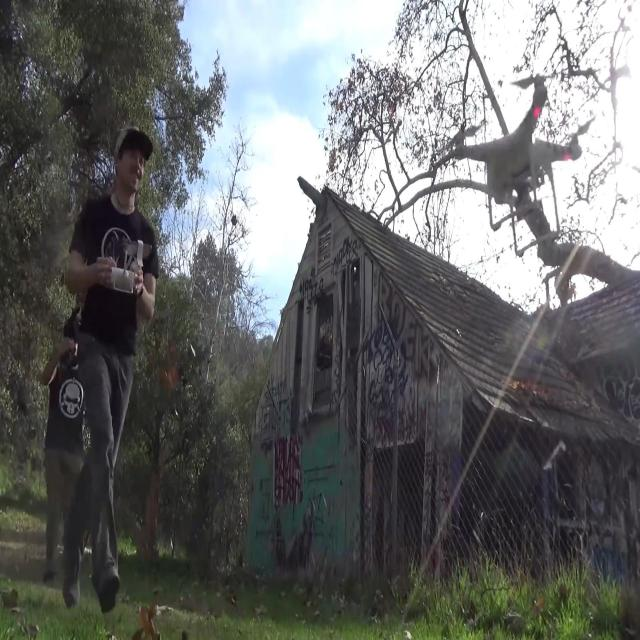drone: (448, 63, 593, 232)
